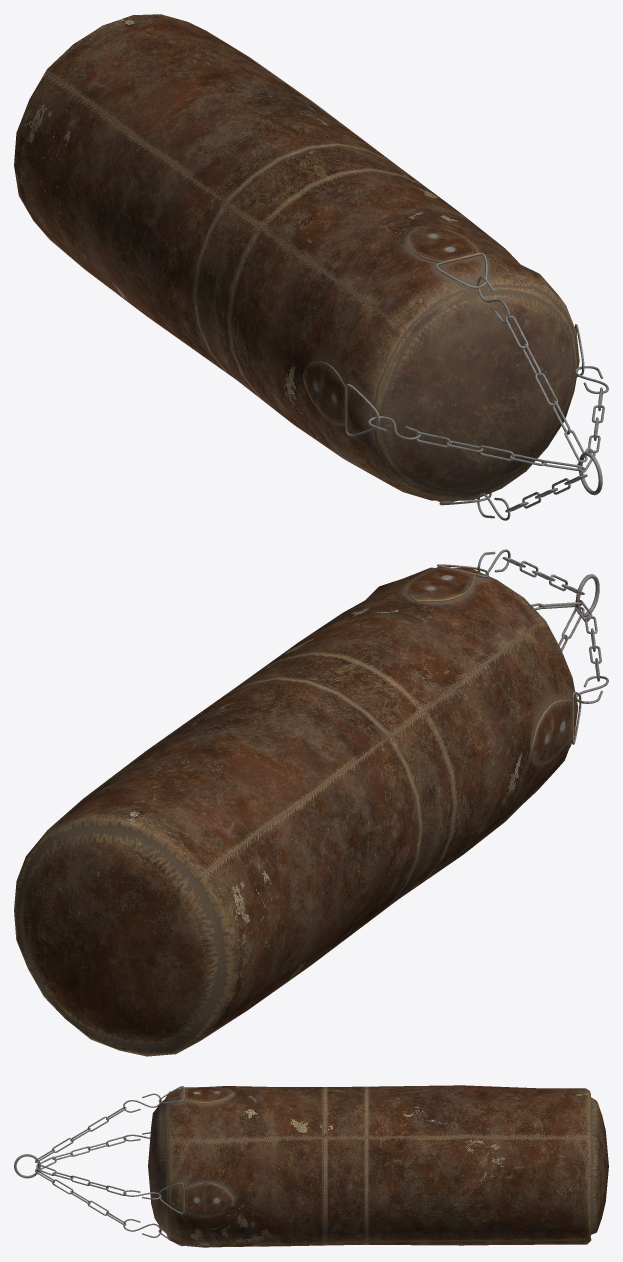
The model's file is Boxing Bag.fbx.
3 renders of one model, top to bottom at view 1: azimuth 30°, elevation 25°; view 2: azimuth 150°, elevation 25°; view 3: azimuth 270°, elevation 25°, orthographic. The views are drawn at different scales.
Parts seen in each view (by area): view 1: Boxing_Bag_low, Cadena_low, Parche_3_low, Parche_2_low, Gancho_low, Amarraderas_low; view 2: Boxing_Bag_low, Parche_3_low, Parche_2_low, Cadena_low; view 3: Boxing_Bag_low, Cadena_low, Parche_1_low, Parche_2_low, Gancho_low, Amarraderas_low.
Boxes of the visible parts, left/top/right/bottom form: Boxing_Bag_low: left=14, top=14, right=579, bottom=500; Cadena_low: left=415, top=315, right=604, bottom=512; Parche_3_low: left=303, top=361, right=347, bottom=425; Parche_2_low: left=408, top=226, right=479, bottom=263; Gancho_low: left=368, top=276, right=608, bottom=520; Amarraderas_low: left=345, top=253, right=584, bottom=505; Boxing_Bag_low: left=14, top=567, right=578, bottom=1056; Parche_3_low: left=531, top=699, right=574, bottom=763; Parche_2_low: left=406, top=565, right=476, bottom=601; Cadena_low: left=502, top=557, right=601, bottom=681; Boxing_Bag_low: left=148, top=1085, right=608, bottom=1247; Cadena_low: left=35, top=1106, right=126, bottom=1225; Parche_1_low: left=183, top=1182, right=234, bottom=1215; Parche_2_low: left=183, top=1087, right=234, bottom=1103; Gancho_low: left=123, top=1093, right=161, bottom=1237; Amarraderas_low: left=158, top=1086, right=184, bottom=1246.
Bounding box in the file's own units: 42.94 × 42.94 × 157.
